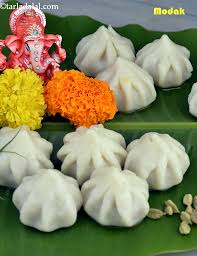modak: (86, 164, 154, 227), (18, 161, 80, 229), (127, 127, 191, 192), (58, 127, 133, 174), (97, 57, 157, 111), (1, 122, 51, 186), (143, 32, 192, 93), (75, 28, 138, 74)
